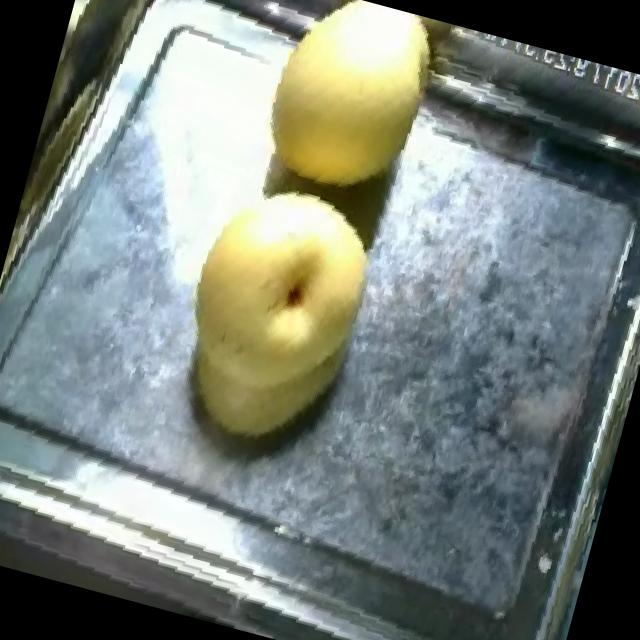Fruit: (130, 152, 414, 482), (225, 0, 466, 229)
